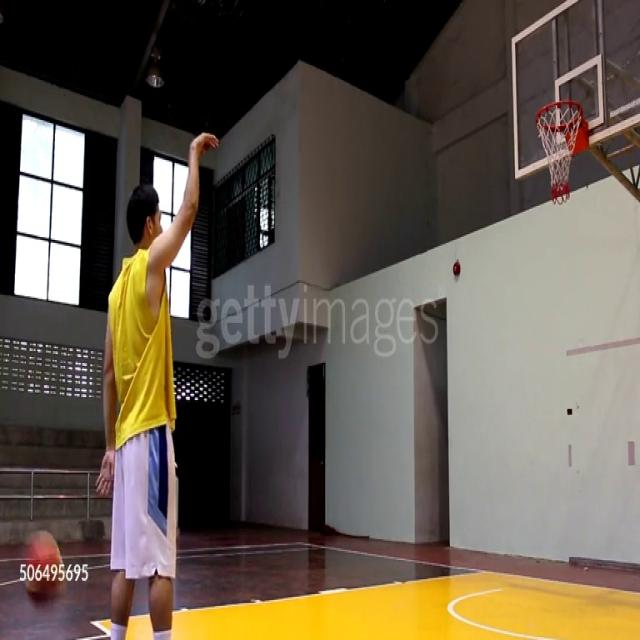ball: (19, 530, 63, 604)
